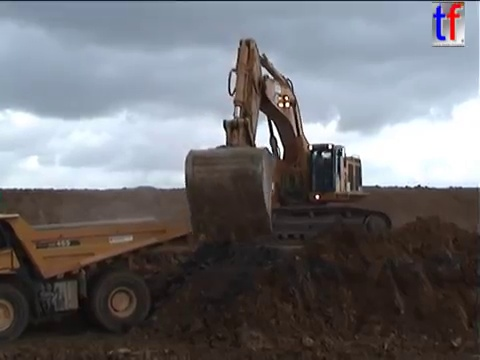excavator: (181, 34, 396, 248)
truck: (1, 211, 202, 346)
